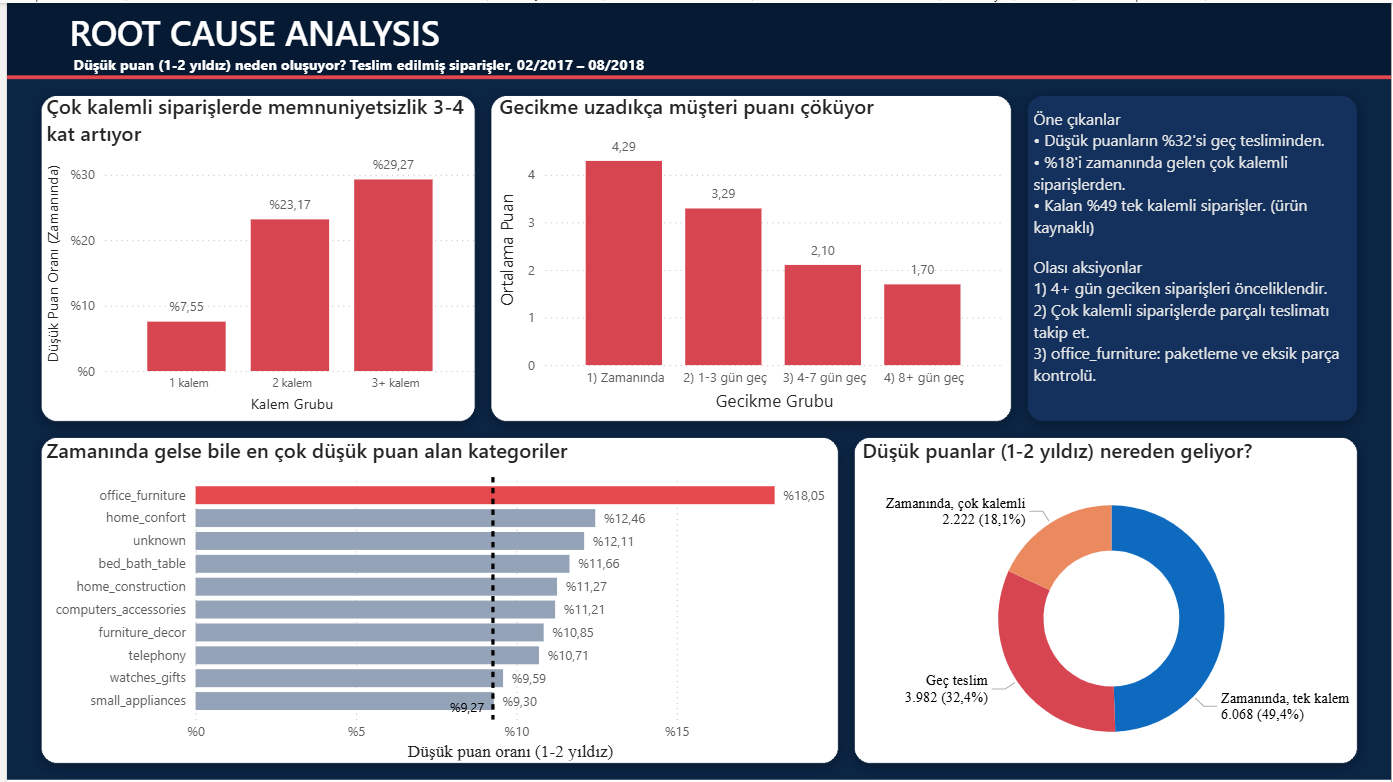

The page's visual inventory and layout, read from the dashboard file:
{"tool":"powerbi","page":{"name":"Root Cause Analysis","canvas":[1280,720],"ordinal":1},"visuals":[{"type":"clusteredBarChart","title":"Zamanında gelse bile en çok düşük puan alan kategoriler","fields":{"Category":["vw_order_category.category_english"],"Y":["_Measure.Düşük Puan Oranı (güvenilir)"]},"box":[31.4,400.5,742.7,305.2],"z":0},{"type":"clusteredColumnChart","title":"Çok kalemli siparişlerde memnuniyetsizlik 3-4 kat artıyor","fields":{"Category":["vw_order_analysis.Kalem Grubu"],"Y":["_Measure.Düşük Puan Oranı (Zamanında)"]},"box":[31.6,82.1,409.5,301.1],"z":1000},{"type":"clusteredColumnChart","title":"Gecikme uzadıkça müşteri puanı çöküyor","fields":{"Category":["vw_order_analysis.Gecikme Grubu"],"Y":["_Measure.Ortalama Puan"]},"box":[450.4,82.3,476.3,300.6],"z":2000},{"type":"donutChart","title":"Düşük puanlar (1-2 yıldız) nereden geliyor?","fields":{"Category":["vw_order_analysis.Düşük Puan Kaynağı"],"Y":["_Measure.Toplam Sipariş"]},"box":[786.3,400,470.5,312.6],"z":3000},{"type":"textbox","box":[0,0,603.2,71.6],"z":4000},{"type":"textbox","box":[944.2,91.6,301.1,291.6],"z":5000}]}

Visuals, with their boxes in screenshot pixels (x1, y1, x2, y2), scaled from the page's 1280x720 canvas onto the 1393x782 screenshot:
"Zamanında gelse bile en çok düşük puan alan kategoriler" clusteredBarChart: BBox(34, 435, 842, 766)
"Çok kalemli siparişlerde memnuniyetsizlik 3-4 kat artıyor" clusteredColumnChart: BBox(34, 89, 480, 416)
"Gecikme uzadıkça müşteri puanı çöküyor" clusteredColumnChart: BBox(490, 89, 1009, 416)
"Düşük puanlar (1-2 yıldız) nereden geliyor?" donutChart: BBox(856, 434, 1368, 774)
textbox: BBox(0, 0, 656, 78)
textbox: BBox(1028, 99, 1355, 416)
